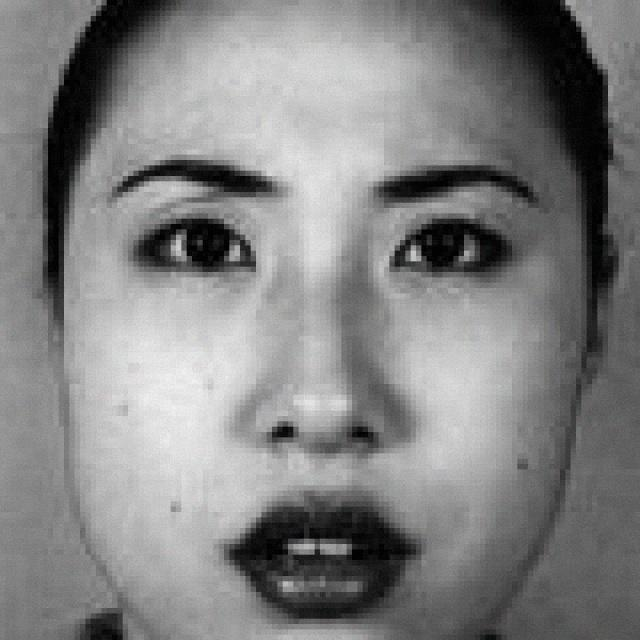fear: (83, 39, 554, 626)
